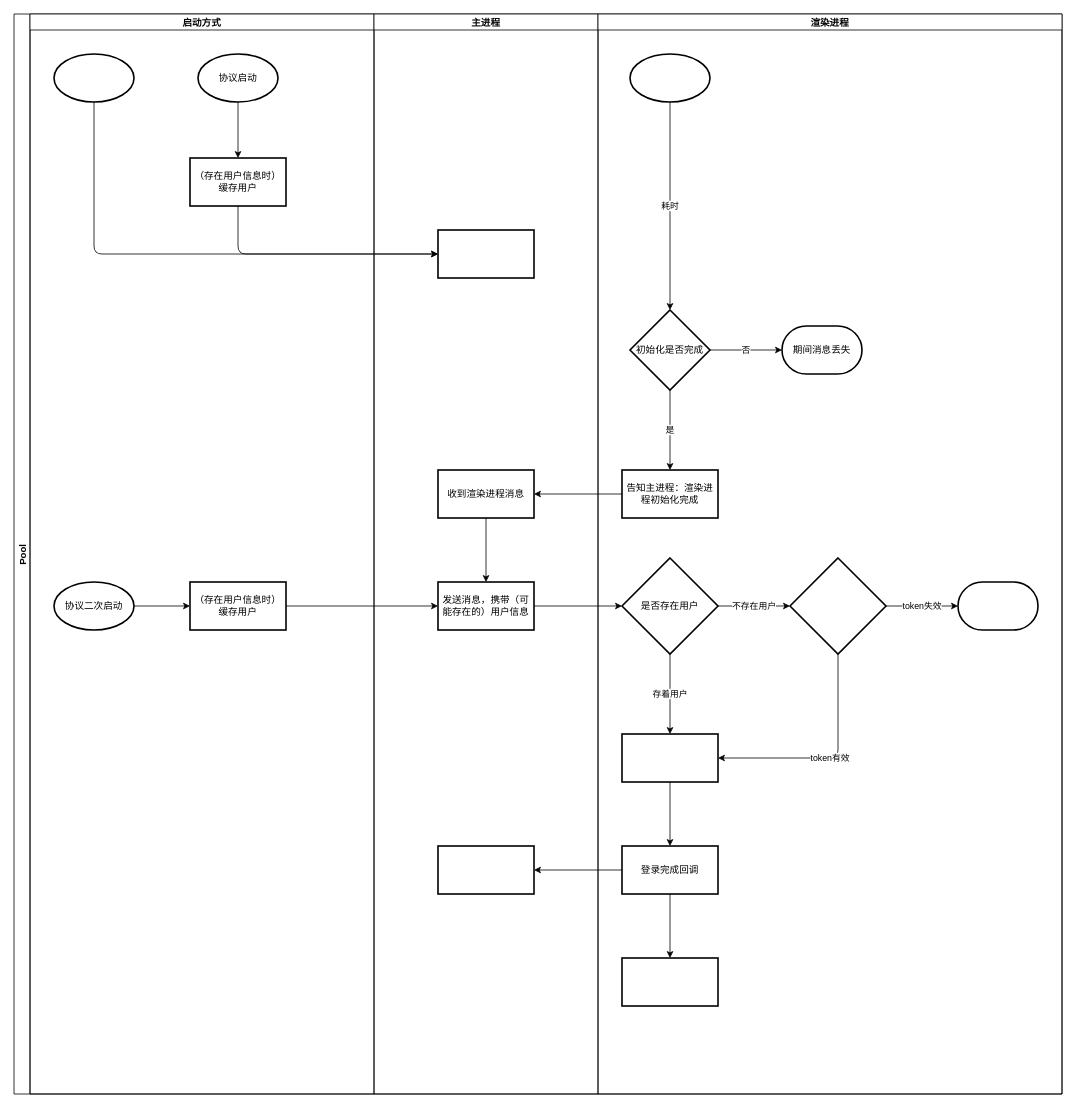
This 1076x1108 diagram has some shape labels left out. The centre of each missing label's shape, as x and y in pixels:
"主进程任务/队列清理+执行" goes at (x=485, y=869).
"使用一个耗时较短的接口，校验当前token是否有效" goes at (x=837, y=605).
"常规启动" goes at (x=93, y=77).
"注册的监听：等待渲染进程初始化，询问登录是否携带了用户信息" goes at (x=485, y=253).
"渲染进程任务/队列的清理+执行" goes at (x=669, y=981).
"渲染进程初始化" goes at (x=669, y=77).
"跳转：尽调中心" goes at (x=669, y=757).
"跳转：登录界面" goes at (x=997, y=605).
